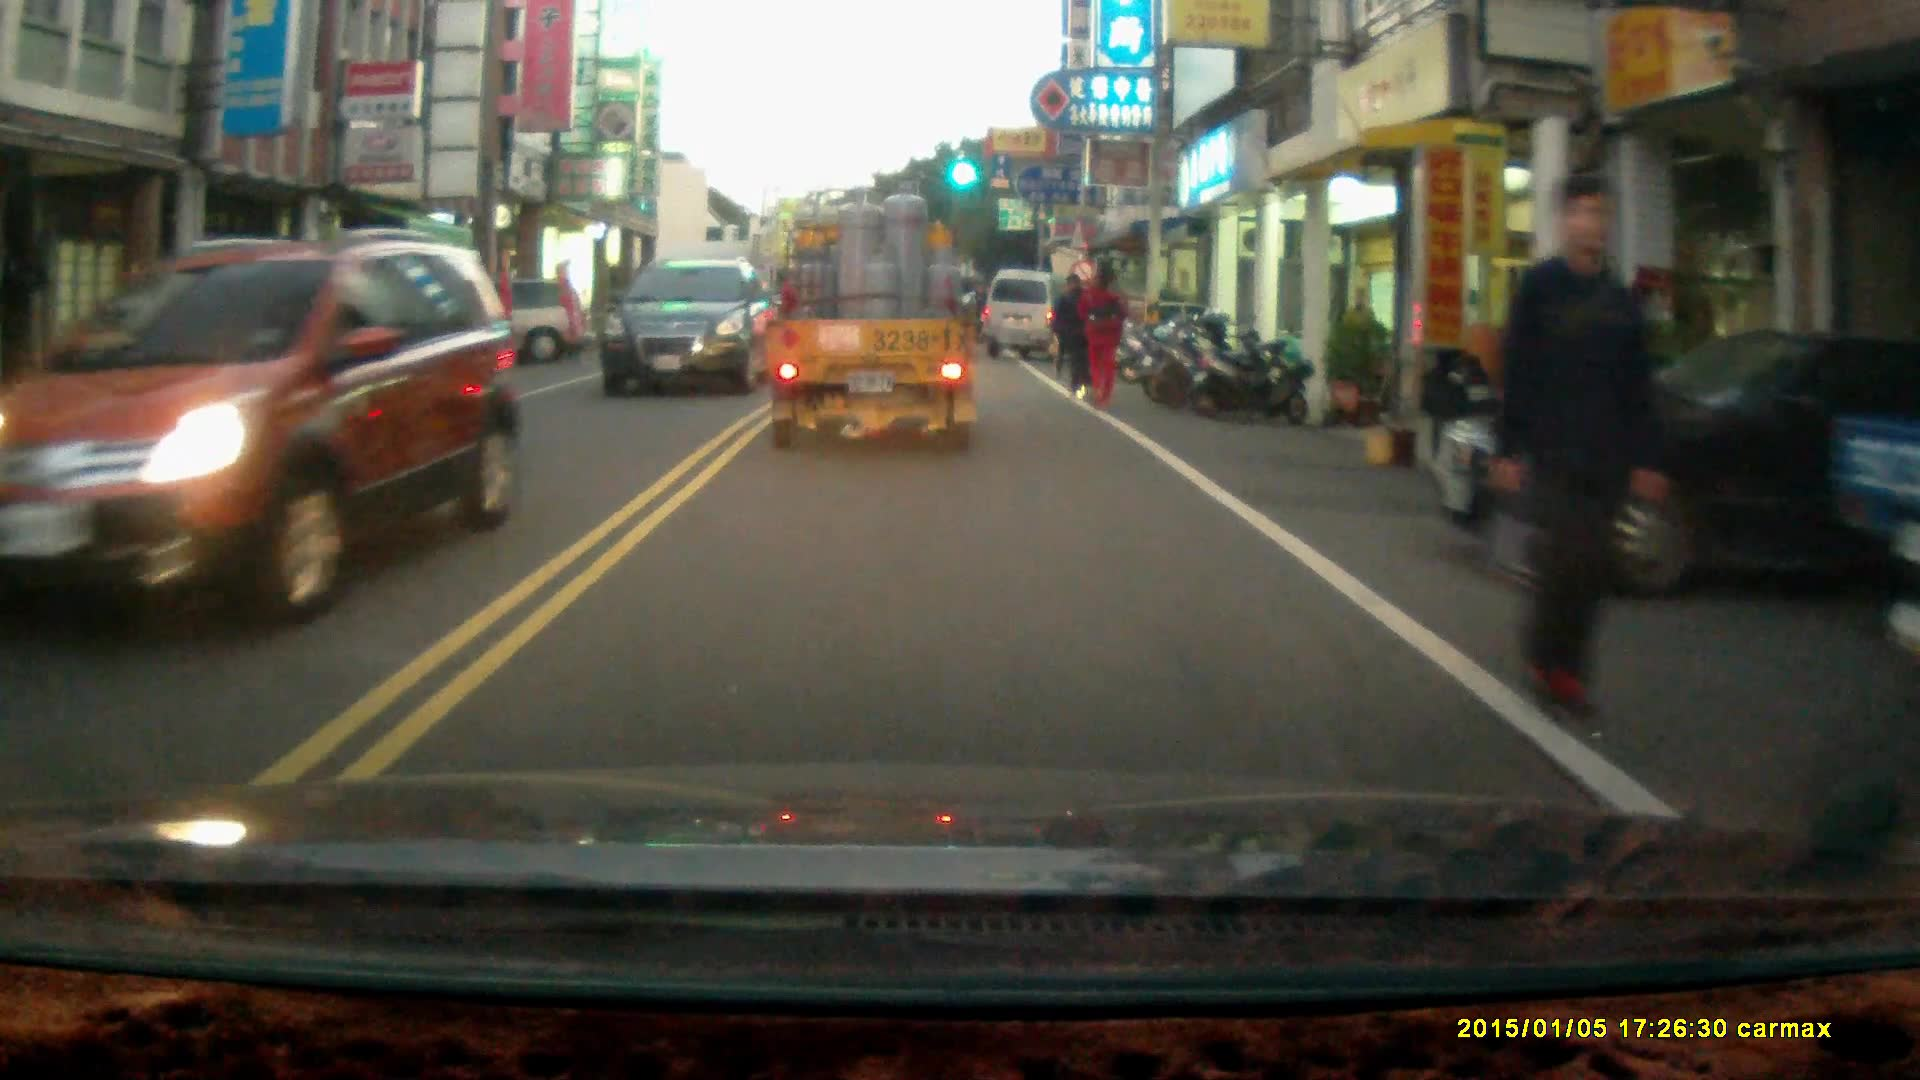pedestrian: (1486, 164, 1660, 732), (1082, 265, 1123, 409), (1056, 272, 1095, 398), (1339, 283, 1374, 376)
vehicle: (16, 226, 500, 652), (1425, 322, 1920, 599), (762, 187, 987, 472), (602, 260, 777, 400), (985, 264, 1072, 358)
